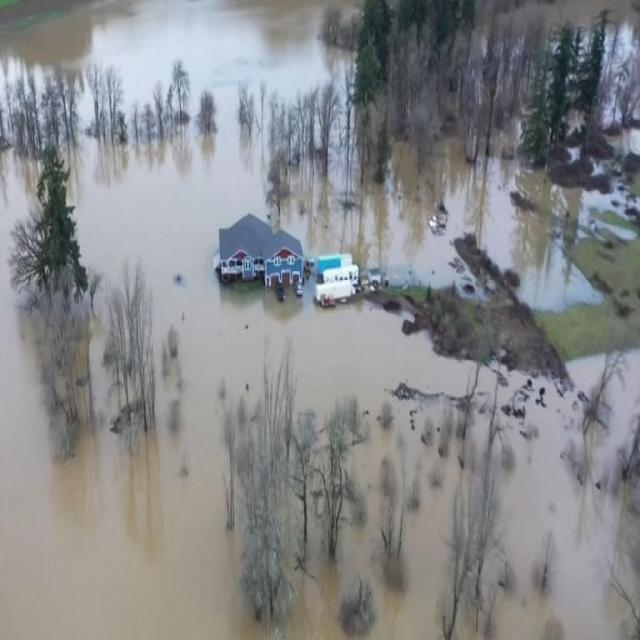flood: (0, 0, 640, 640), (607, 23, 639, 123), (629, 124, 640, 159)
house: (218, 212, 304, 287)
